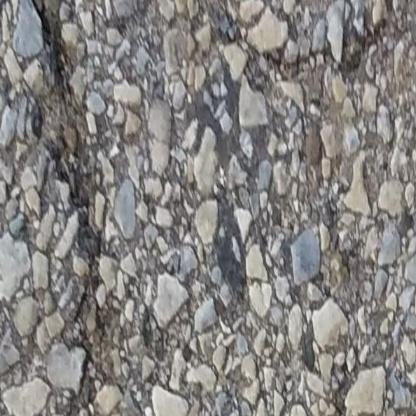Cracks: (29, 0, 108, 416), (176, 0, 416, 92)
